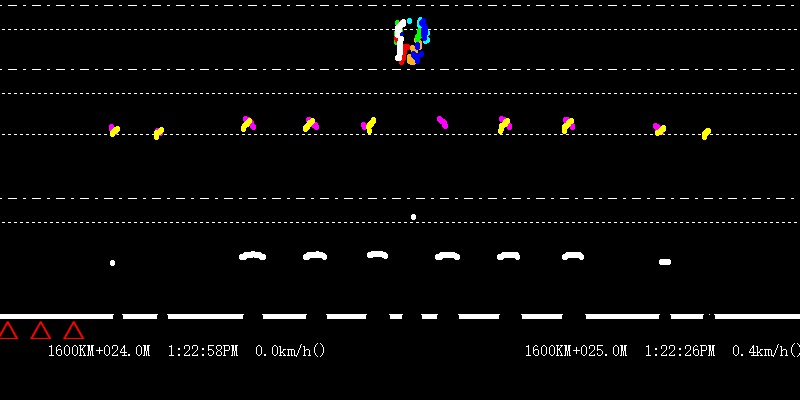J: (385, 1, 433, 66)
